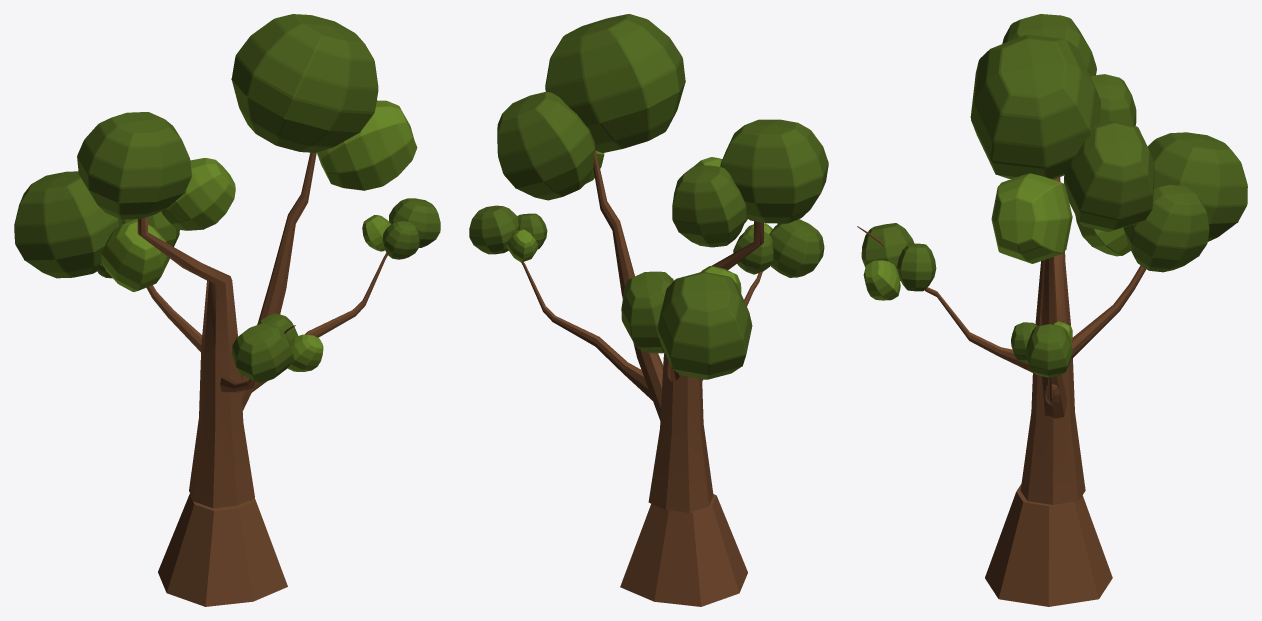
The model's file is 1AppleTree.fbx.
3 views of the same model, side by side, from view 1: azimuth 30°, elevation 25°; view 2: azimuth 150°, elevation 25°; view 3: azimuth 270°, elevation 25° (orthographic). The views are drawn at different scales.
Visible parts, largest first — view 1: Cube.015, Cube.013; view 2: Cube.015, Cube.013; view 3: Cube.015, Cube.013.
Part boxes in pixels (<box>): Cube.015: <box>14,14,440,508</box>; Cube.013: <box>158,494,287,606</box>; Cube.015: <box>469,14,828,512</box>; Cube.013: <box>620,494,747,606</box>; Cube.015: <box>857,14,1247,504</box>; Cube.013: <box>985,483,1112,606</box>.
Bounding box in the file's own units: 12.43 × 18.4 × 11.34.
